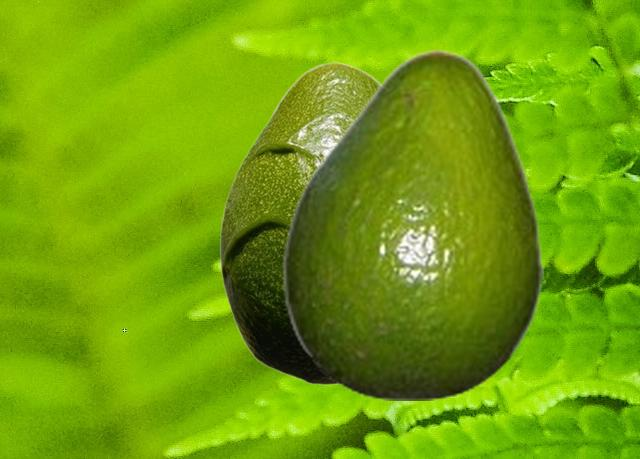avocado: (281, 48, 542, 399), (219, 61, 379, 384)
